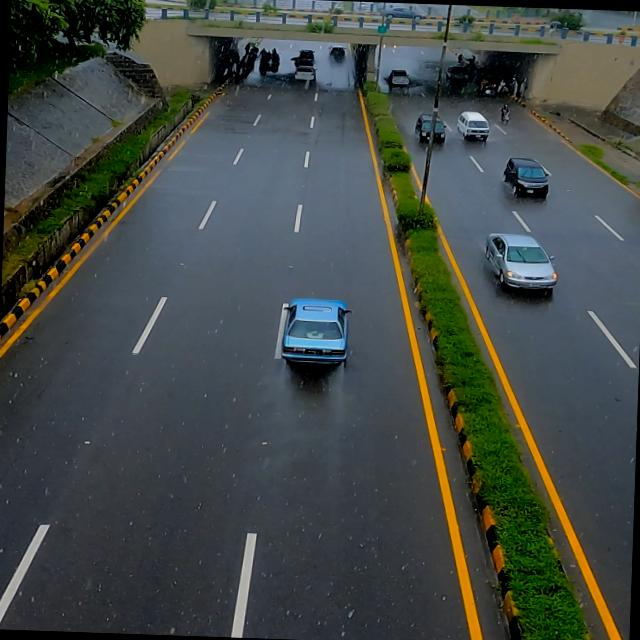Vehicle: (275, 295, 360, 377), (478, 226, 565, 298), (500, 154, 554, 203), (459, 106, 496, 146), (414, 110, 452, 148)
